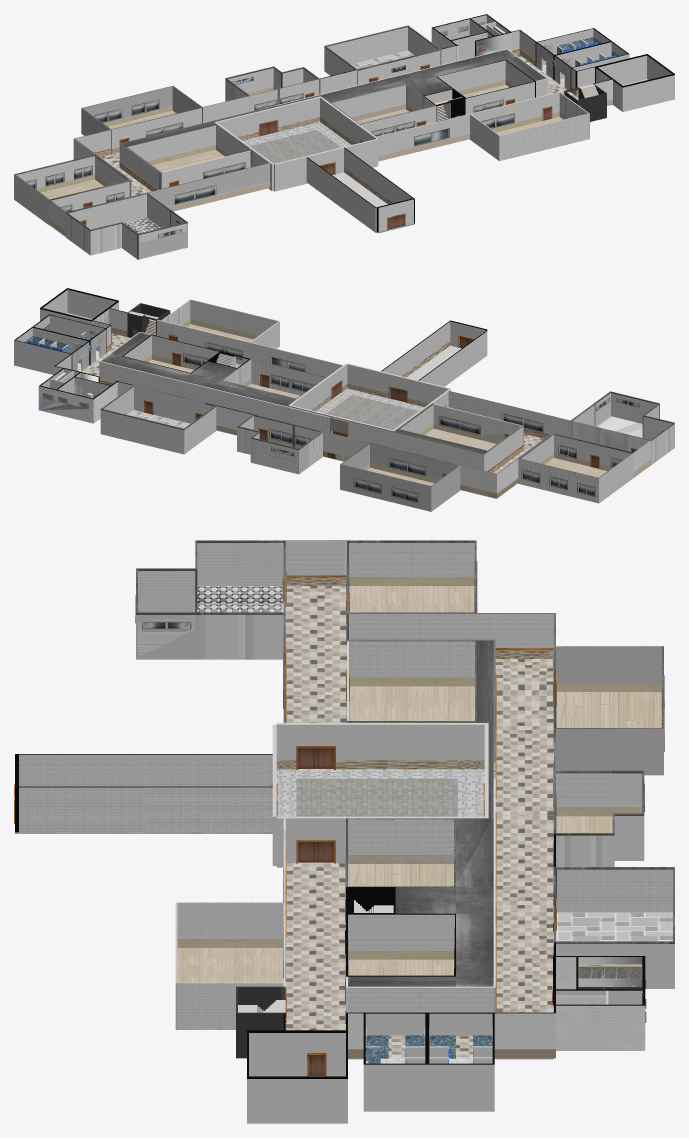
Rendered from modelo escuela Beta 2.11.fbx.
3 views of the same model, one above another, from view 1: azimuth 30°, elevation 25°; view 2: azimuth 150°, elevation 25°; view 3: azimuth 270°, elevation 25° (orthographic). The views are drawn at different scales.
Parts seen in each view (by area): view 1: patio central, Salon Taller, Salon, Textura Superior Pared pasillo derecho .002, Salon 1, Salon 2.001, Salon 3, Salon 2, salon.009, Cube.003, Techo, Salon 5 (+12 smaller); view 2: Salon 2.001, Textura Superior Pared pasillo derecho .002, patio central, Salon 3, Salon 1, salon.009, Salon Taller, Salon, Salon 4, Techo, Cube.003, Salon 2 (+10 smaller); view 3: patio central, Cube.003, Salon Taller, Salon 3, Salon, pasillo derecho1, salon.009, Techo, Salon 2, pasillo derecho, Textura Superior Pared pasillo derecho .002, Salon 1 (+13 smaller).
Boxes of the visible parts, <box> form: patio central: <box>214,96,378,191</box>; Salon Taller: <box>66,192,187,259</box>; Salon: <box>469,92,589,160</box>; Textura Superior Pared pasillo derecho .002: <box>49,101,269,231</box>; Salon 1: <box>14,154,130,225</box>; Salon 2.001: <box>226,30,612,155</box>; Salon 3: <box>81,86,202,154</box>; Salon 2: <box>126,125,251,188</box>; salon.009: <box>324,25,441,85</box>; Cube.003: <box>306,147,413,232</box>; Techo: <box>121,49,546,166</box>; Salon 5: <box>330,84,436,136</box>; Salon 2.001: <box>54,308,345,456</box>; Textura Superior Pared pasillo derecho .002: <box>346,391,650,493</box>; patio central: <box>288,363,450,433</box>; Salon 3: <box>340,443,460,511</box>; Salon 1: <box>518,433,633,503</box>; salon.009: <box>100,385,216,454</box>; Salon Taller: <box>570,391,674,465</box>; Salon: <box>160,299,279,364</box>; Salon 4: <box>237,414,323,474</box>; Techo: <box>101,332,487,454</box>; Cube.003: <box>381,321,487,386</box>; Salon 2: <box>399,403,522,450</box>; patio central: <box>271,723,488,867</box>; Cube.003: <box>19,754,272,833</box>; Salon Taller: <box>135,540,286,659</box>; Salon 3: <box>553,646,664,775</box>; Salon: <box>175,902,286,1029</box>; pasillo derecho1: <box>456,815,553,1059</box>; salon.009: <box>553,867,674,988</box>; Techo: <box>347,640,493,986</box>; Salon 2: <box>346,640,476,722</box>; pasillo derecho: <box>285,863,405,1059</box>; Textura Superior Pared pasillo derecho .002: <box>283,540,555,798</box>; Salon 1: <box>346,540,477,643</box>.
Size of the model in its own units: 12818 by 550 by 6670.
Materials: 142 (81 with a texture image).
